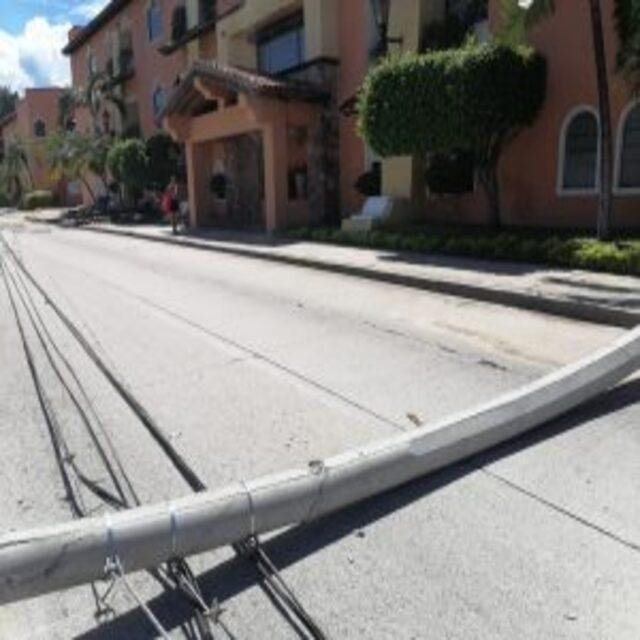Inclined Pole: (0, 315, 640, 612)
